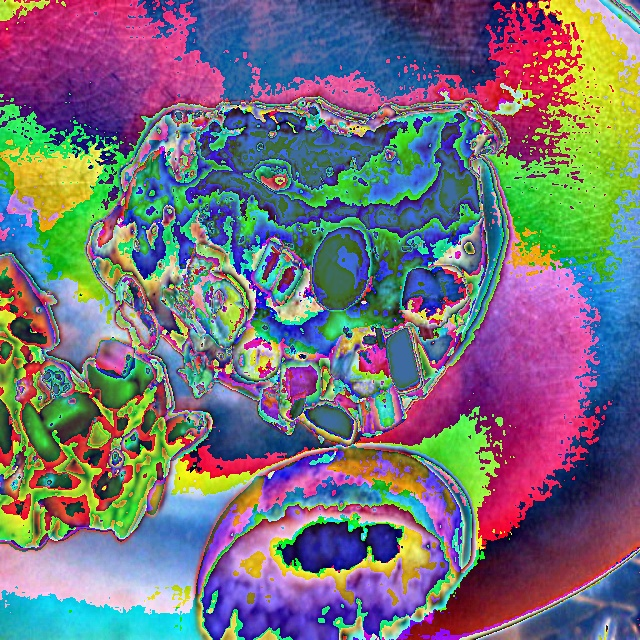background: (0, 99, 502, 639)
